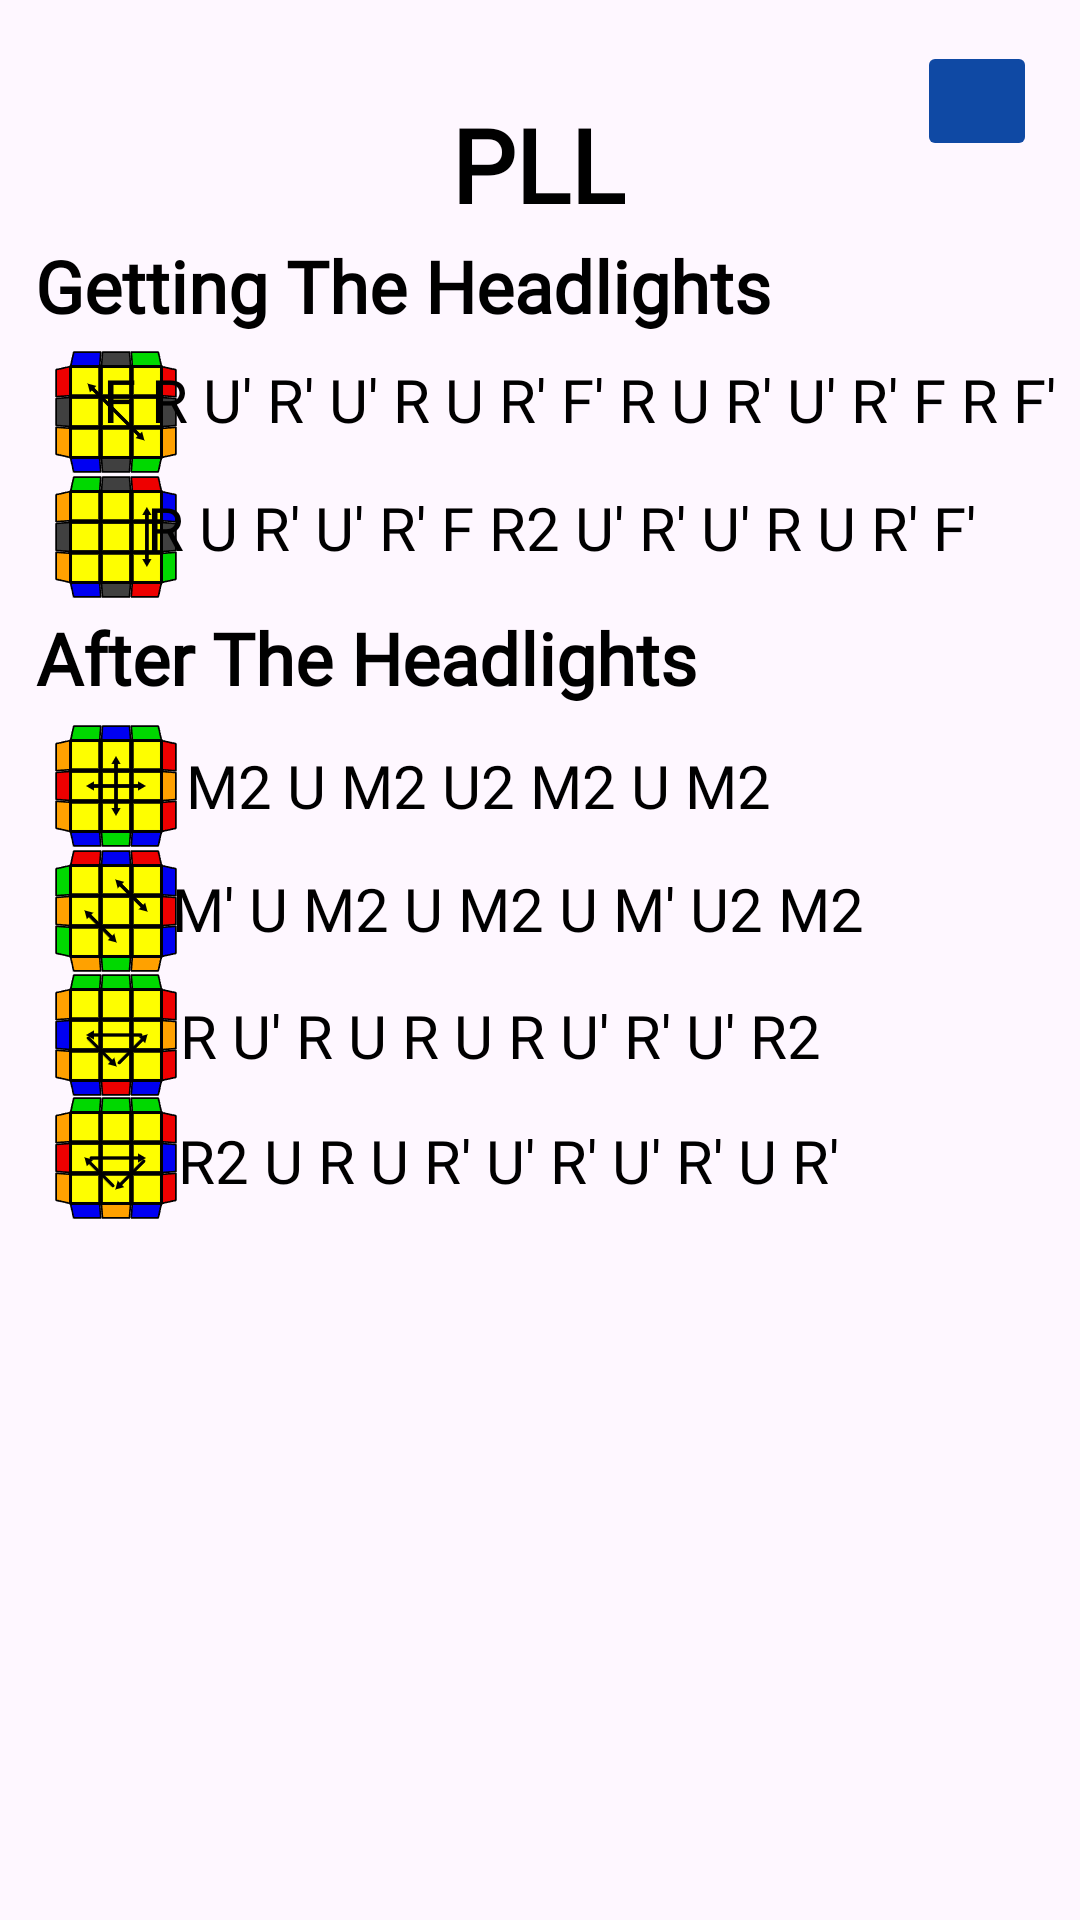

Point at icon controls on the screen. Image size 1080*1920, points as (x=x, y=y).
leftcycle: (x=116, y=1158)
oneheadlight: (x=119, y=537)
rightcycle: (x=116, y=1035)
